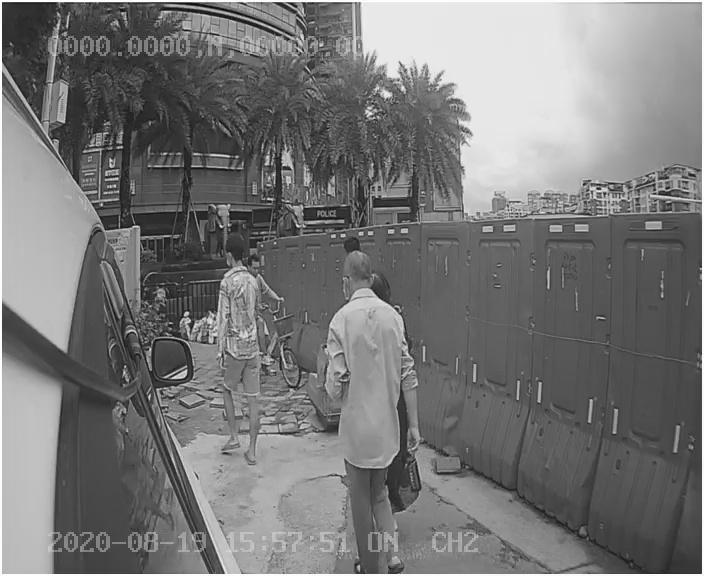person: (320, 253, 438, 535), (200, 236, 281, 463)
